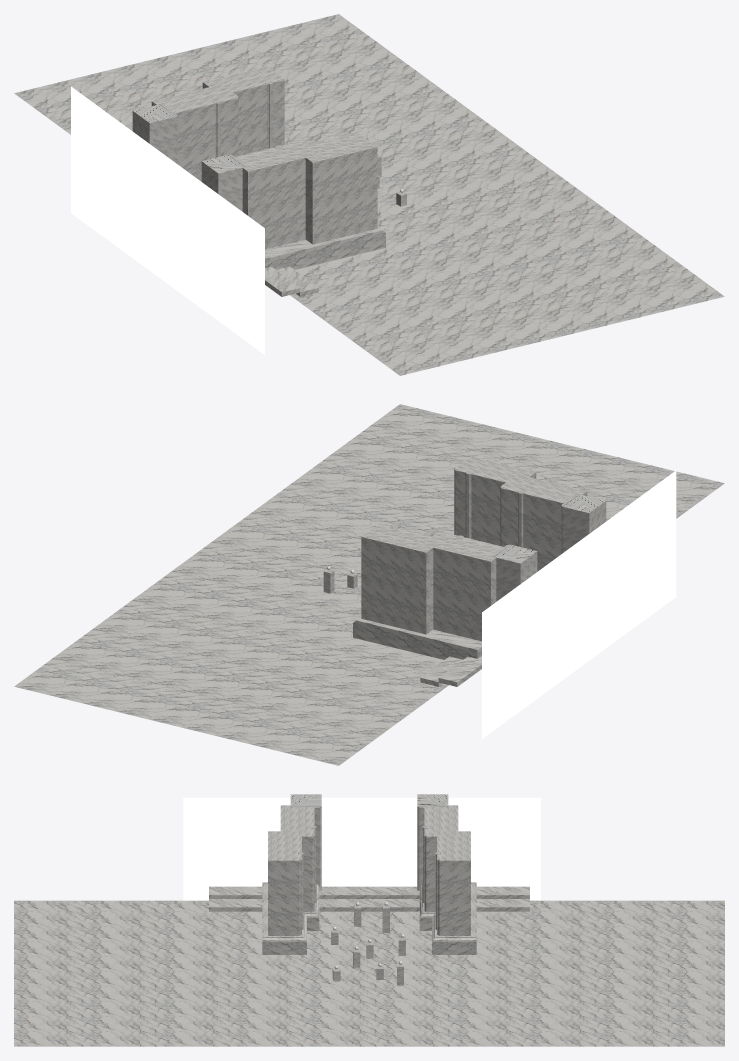
Rendered from scentuary_scene.glb.
The picture shows the model from 3 angles, top to bottom: view 1: azimuth 30°, elevation 25°; view 2: azimuth 150°, elevation 25°; view 3: azimuth 270°, elevation 25°; orthographic projection. The views are drawn at different scales.
Visible parts, largest first — view 1: SUELO, walls, FONDO.001, ESCALERAS; view 2: SUELO, walls, FONDO.001, ESCALERAS; view 3: SUELO, FONDO.001, walls, ESCALERAS.
Part boxes in pixels (x1,y1,x2,y2): SUELO: (14, 14, 724, 375); walls: (132, 66, 385, 269); FONDO.001: (71, 86, 264, 354); ESCALERAS: (265, 266, 318, 296); SUELO: (14, 404, 724, 765); walls: (353, 456, 606, 659); FONDO.001: (482, 470, 676, 738); ESCALERAS: (420, 656, 481, 686); SUELO: (14, 900, 724, 1046); FONDO.001: (183, 797, 540, 900); walls: (262, 794, 476, 954); ESCALERAS: (209, 886, 529, 911).
Bounding box in the file's own units: 15.18 × 5.37 × 27.59.
Materials: 3 (2 with a texture image).
